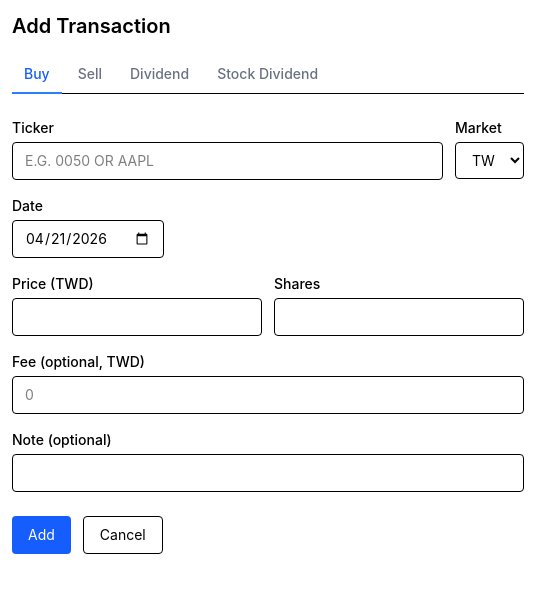
Test: AddTransaction › shows validation error when ticker is empty
Type "100" into the number field labelled "Price (TWD)". click: (137, 317)
box: [12,298,262,336]
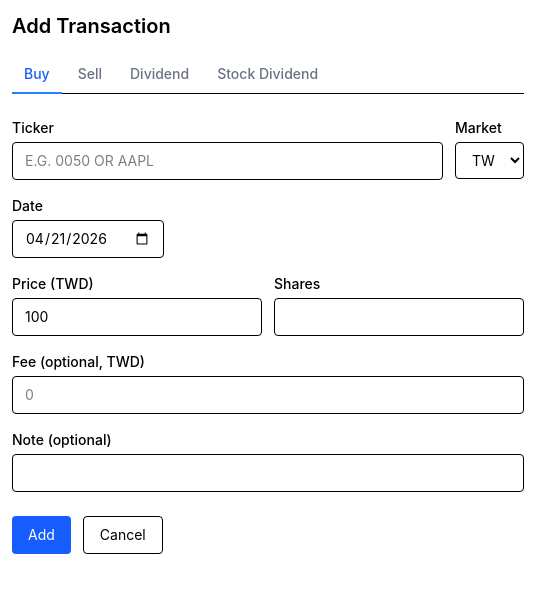
Type "10" into the number field labelled "Shares". click: (399, 317)
box: [274,298,524,336]
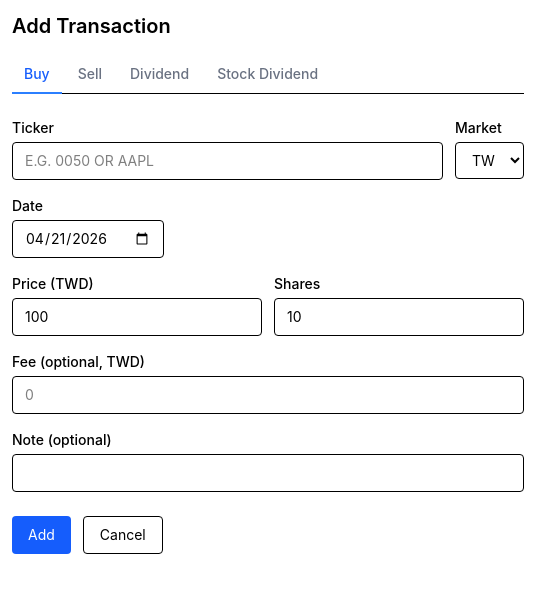
Click the button "Add". click: (41, 535)
box: [12,516,71,554]
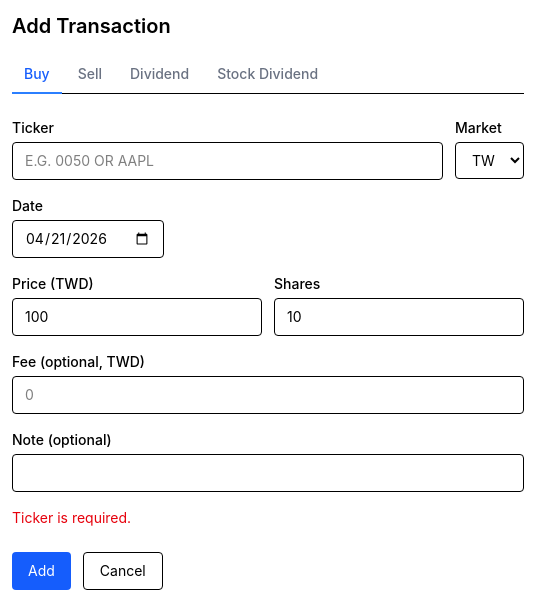
Check: the text "Ticker is required." is shown, box [12,509,131,526]
